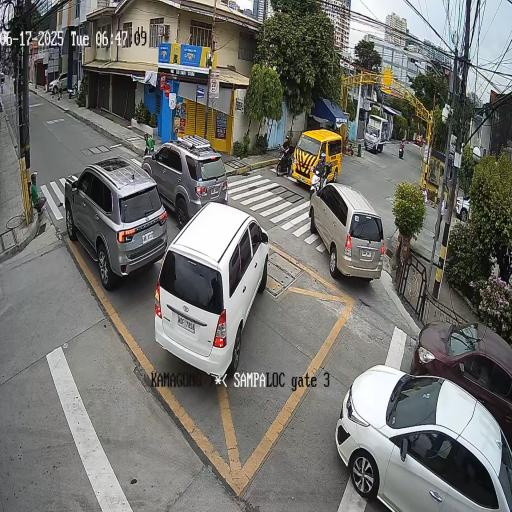Car: (314, 323, 500, 512), (148, 194, 276, 392), (47, 141, 171, 300), (399, 282, 512, 410), (132, 118, 238, 226), (305, 186, 389, 292), (291, 130, 350, 188)
Motor: (304, 149, 341, 198), (273, 126, 293, 187)
